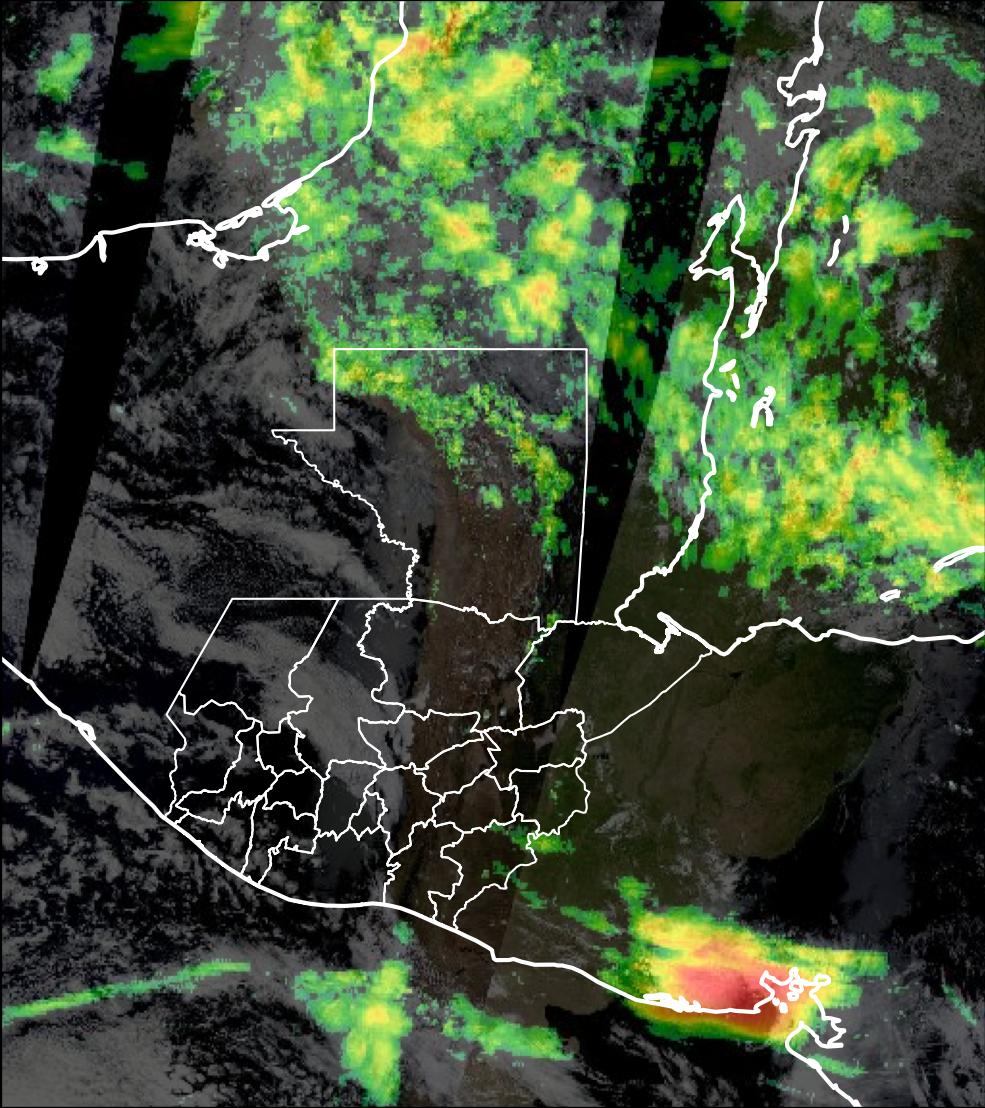precipitacion: (656, 946, 816, 1043)
